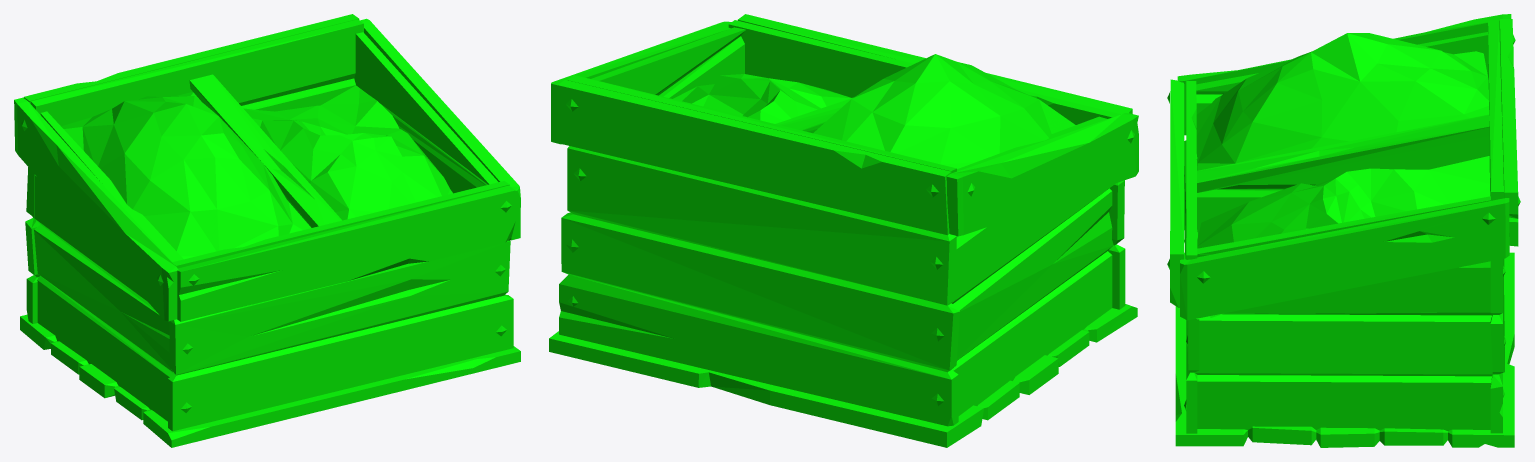
Rendered from SM_Crate_Small_Spice_Fantasy.fbx.
3 views of the same model, side by side, from view 1: azimuth 30°, elevation 25°; view 2: azimuth 150°, elevation 25°; view 3: azimuth 270°, elevation 25° (orthographic). The views are drawn at different scales.
Parts seen in each view (by area): view 1: crate-small-spice-fantasy; view 2: crate-small-spice-fantasy; view 3: crate-small-spice-fantasy.
Boxes of the visible parts, bbox=[...] form: crate-small-spice-fantasy: bbox=[14, 14, 520, 447]; crate-small-spice-fantasy: bbox=[549, 14, 1138, 447]; crate-small-spice-fantasy: bbox=[1167, 14, 1520, 447].
Size of the model in its own units: 1.06 by 0.7446 by 0.8418.
